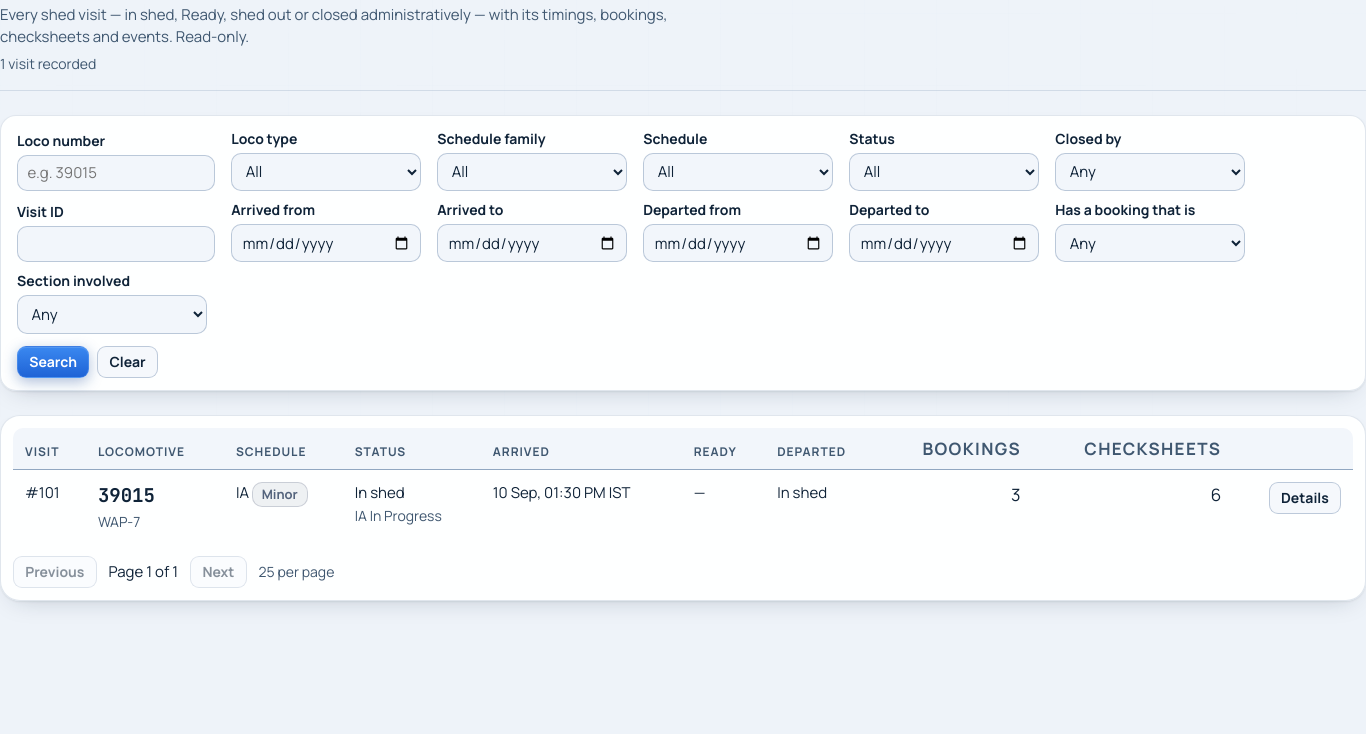
it: Shed Visit History - one visit opened › groups bookings by section and opens each booking to its full history
The width and height of the screenshot is (1366, 734).
Click the button "Details": (1305, 498) left=1269, top=482, right=1341, bottom=514
(page scrolled)
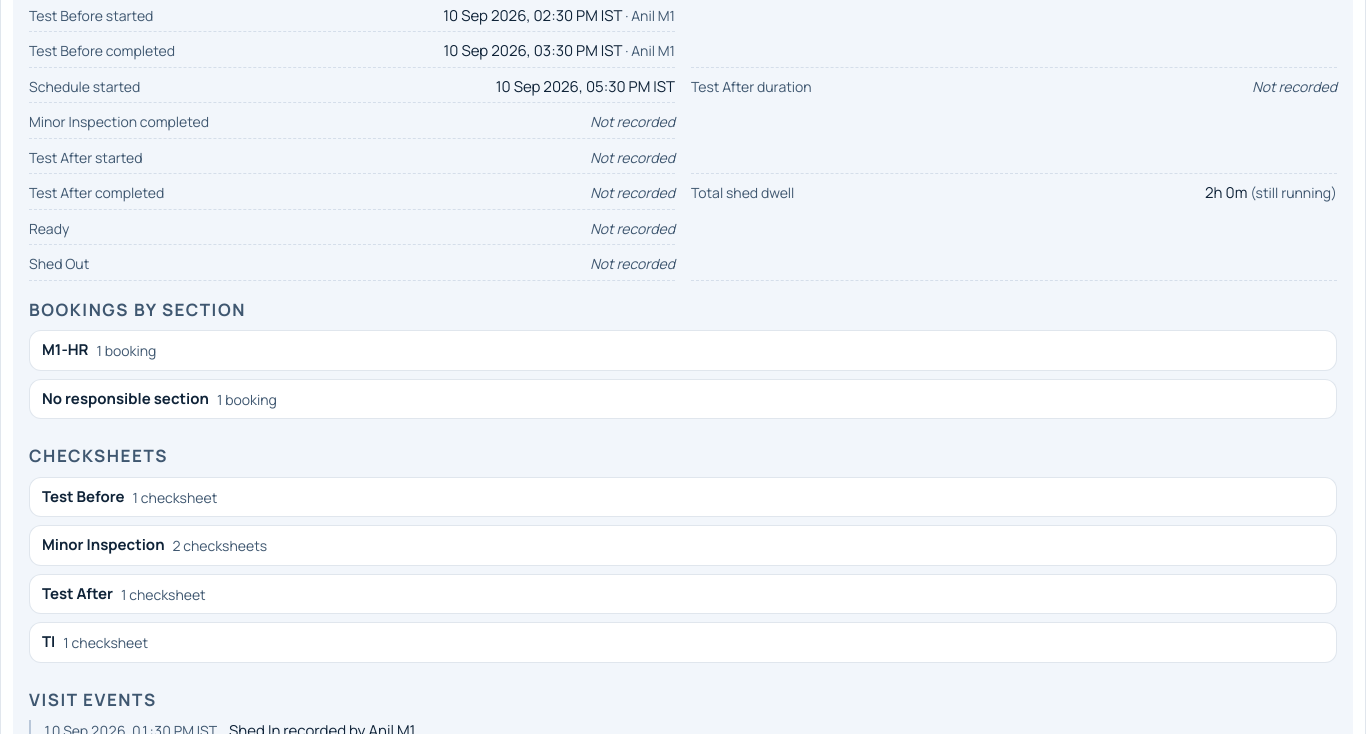
Click the text "M1-HR": (65, 351) left=42, top=339, right=88, bottom=362
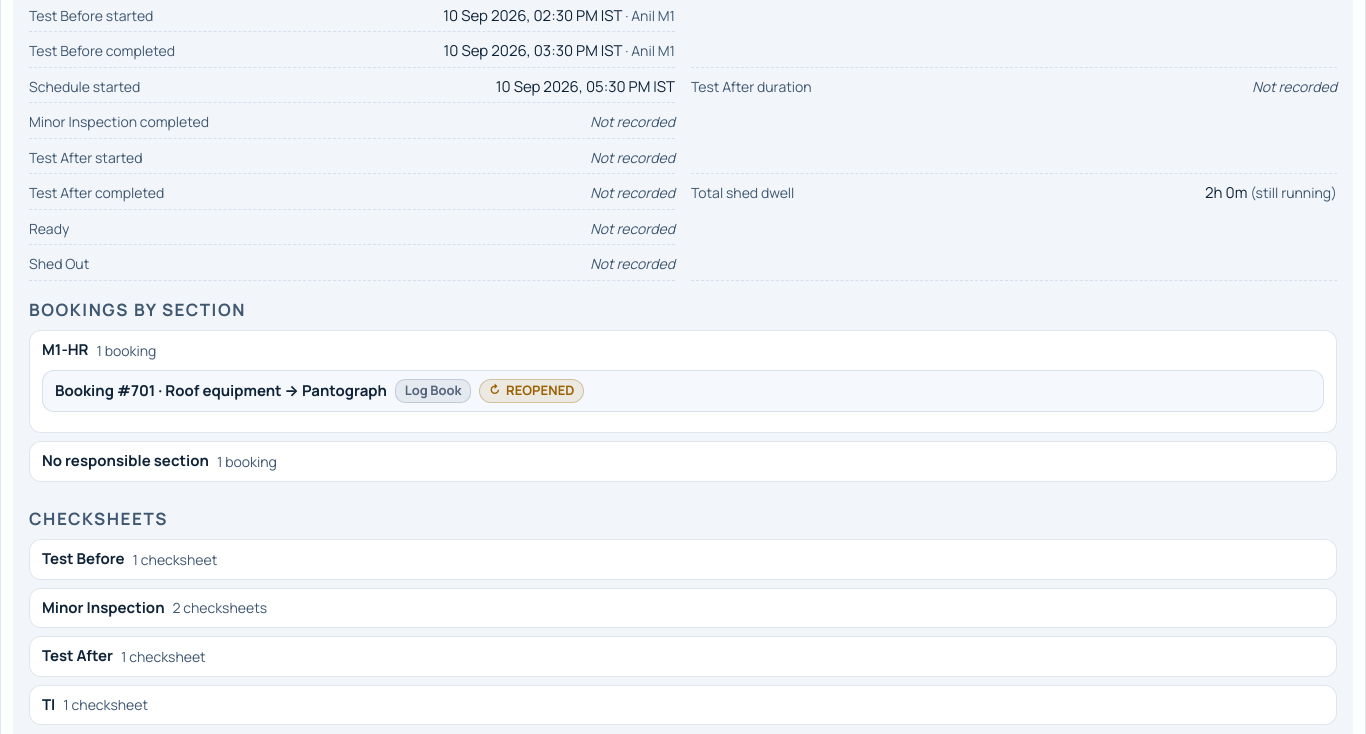
Click the text "Booking #701 · Roof equipment → Pantograph": (221, 391) left=55, top=380, right=387, bottom=402
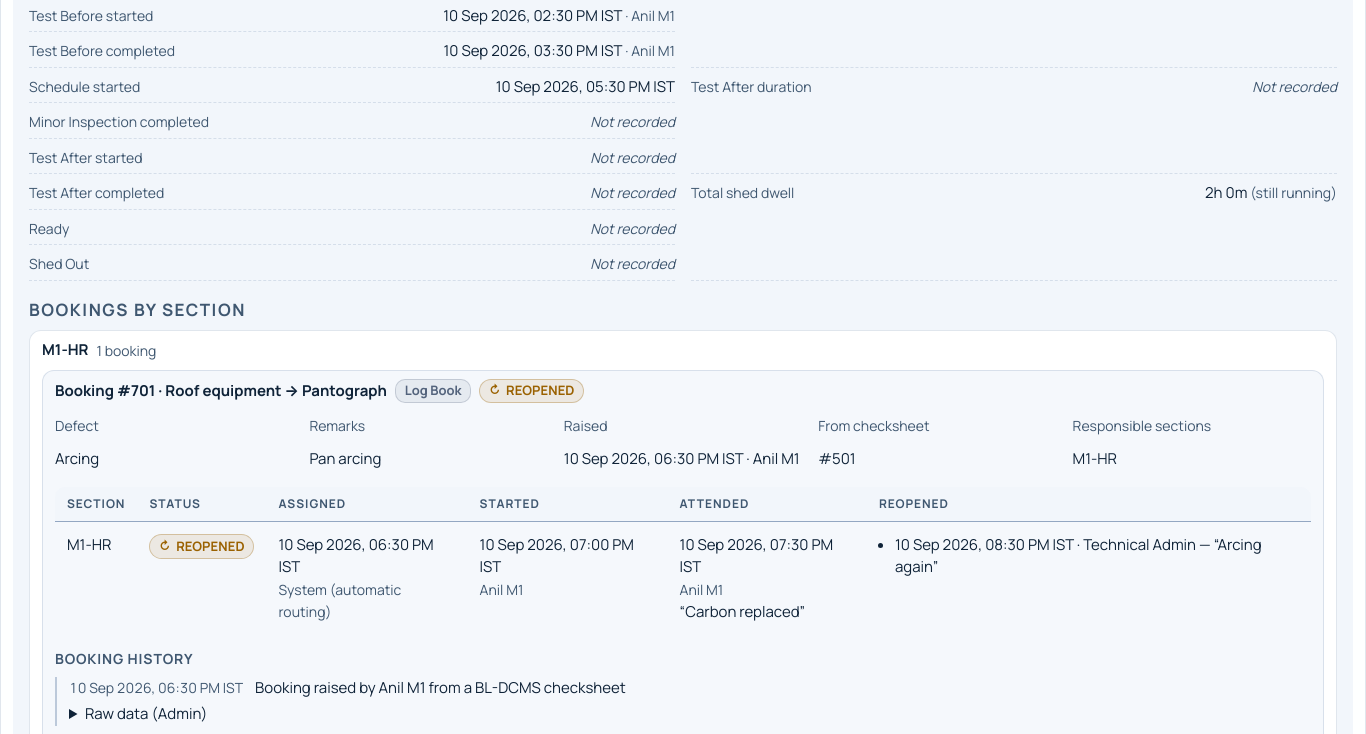
Expected: the text "Booking #701" shows "Roof equipment → Pantograph", left=165, top=380, right=387, bottom=401
Expected: the text "Booking #701" shows "System (automatic routing)", left=278, top=580, right=401, bottom=621
Expected: the text "Booking #701" shows "Carbon replaced", left=685, top=601, right=800, bottom=622
